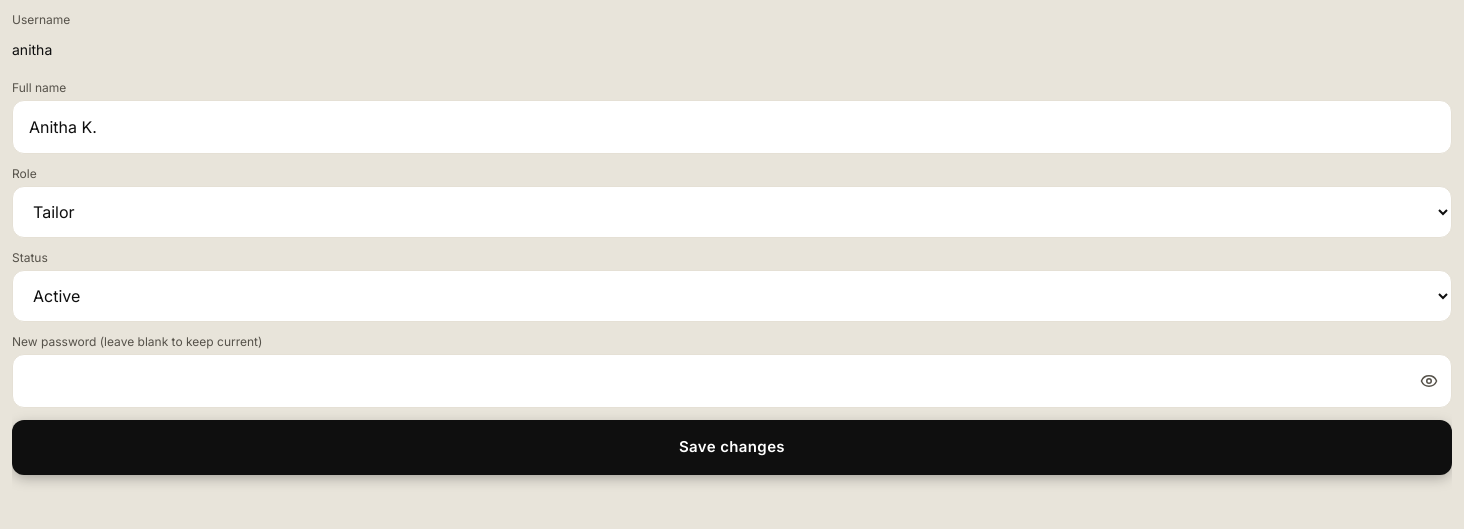
EditStaffForm › submits the hidden id alongside edited fields
Replace the text in the field labelled "Full name" with "Anitha Kumar" at (732, 127), box [12,100,1452,154]
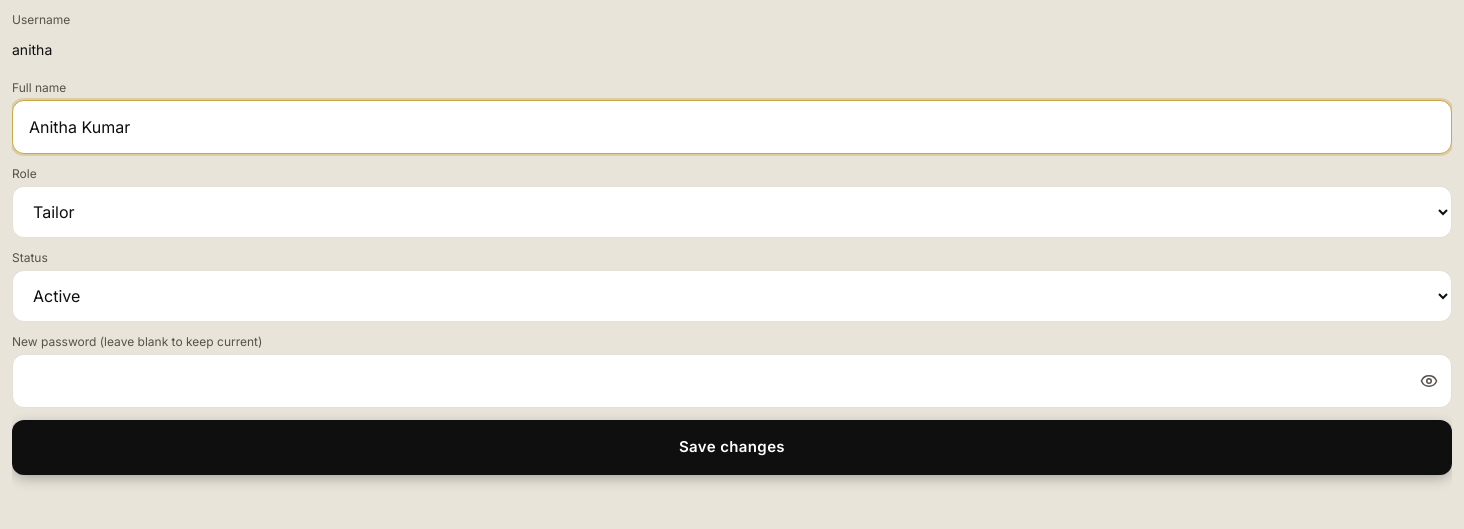
Select "Deactivated" in the dropdown labelled "Status" at (732, 296), box [12,270,1452,322]
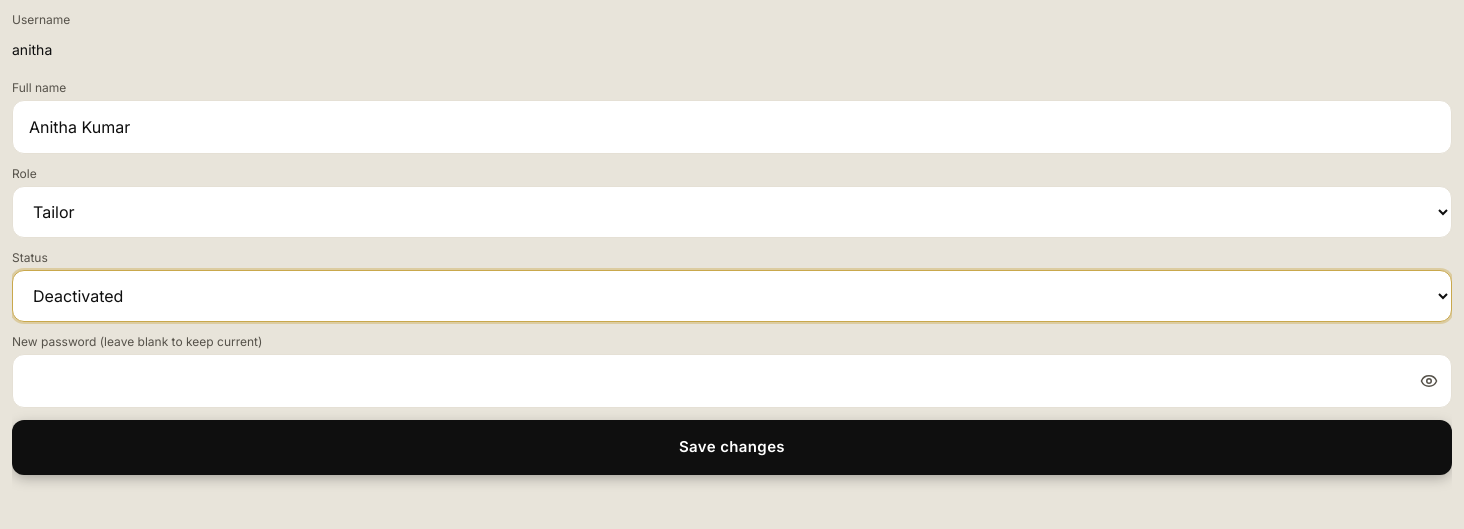
Click the button "Save changes" at (732, 447), box [12,420,1452,474]
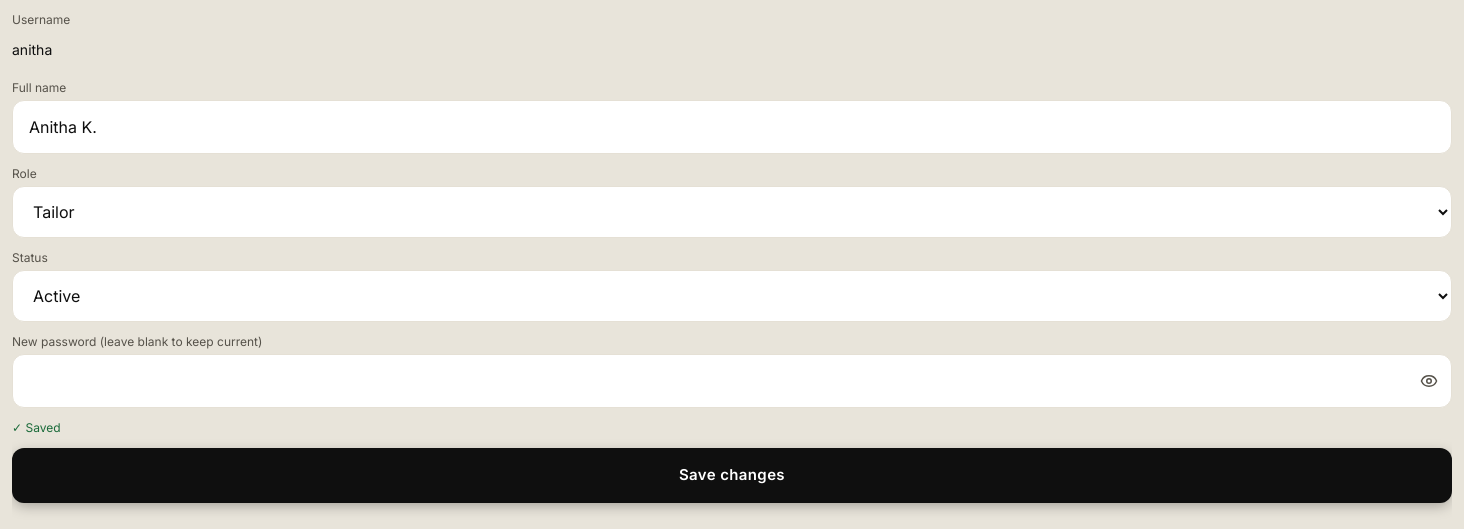
Expected: the text "✓ Saved" is shown, [12,420,60,435]
